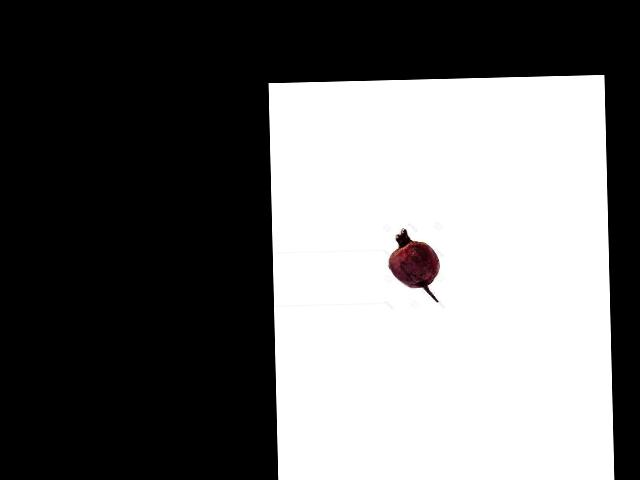beet: (388, 228, 440, 302)
